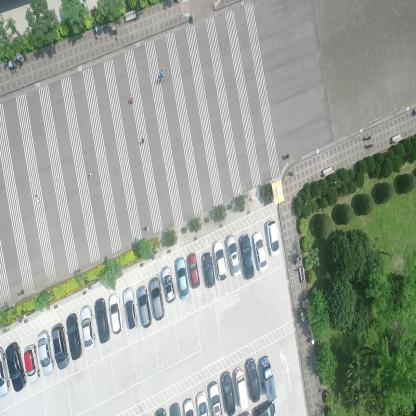car: (4, 341, 27, 392), (64, 311, 82, 359), (51, 322, 69, 370), (93, 296, 110, 344), (260, 355, 277, 403), (238, 232, 255, 279), (80, 304, 96, 352), (38, 328, 54, 376), (246, 356, 262, 403), (225, 232, 241, 278), (122, 285, 138, 331), (252, 230, 269, 273), (23, 343, 41, 383), (211, 240, 228, 282), (174, 256, 190, 300), (149, 276, 165, 320), (136, 285, 152, 329), (221, 370, 236, 416), (108, 290, 123, 335), (235, 365, 250, 409), (266, 217, 280, 257), (161, 265, 176, 302), (0, 346, 11, 395), (186, 251, 200, 287), (202, 250, 215, 288), (209, 380, 223, 415), (253, 398, 277, 416), (195, 389, 209, 415), (183, 397, 196, 415)
